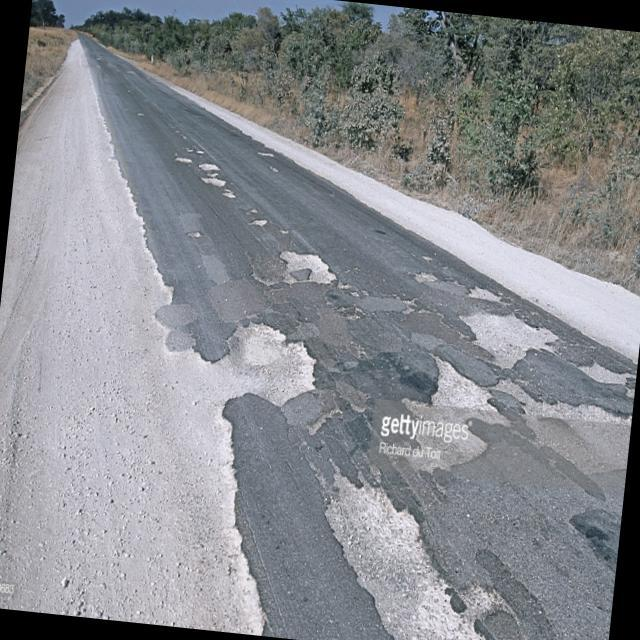Pothole: (329, 483, 486, 640), (213, 311, 324, 417), (456, 314, 558, 372), (421, 364, 494, 423), (272, 237, 342, 294), (572, 350, 631, 395), (462, 278, 506, 308), (410, 264, 440, 290)
